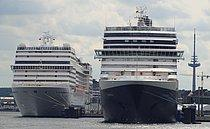Ship: (95, 5, 184, 126), (9, 31, 97, 121)
